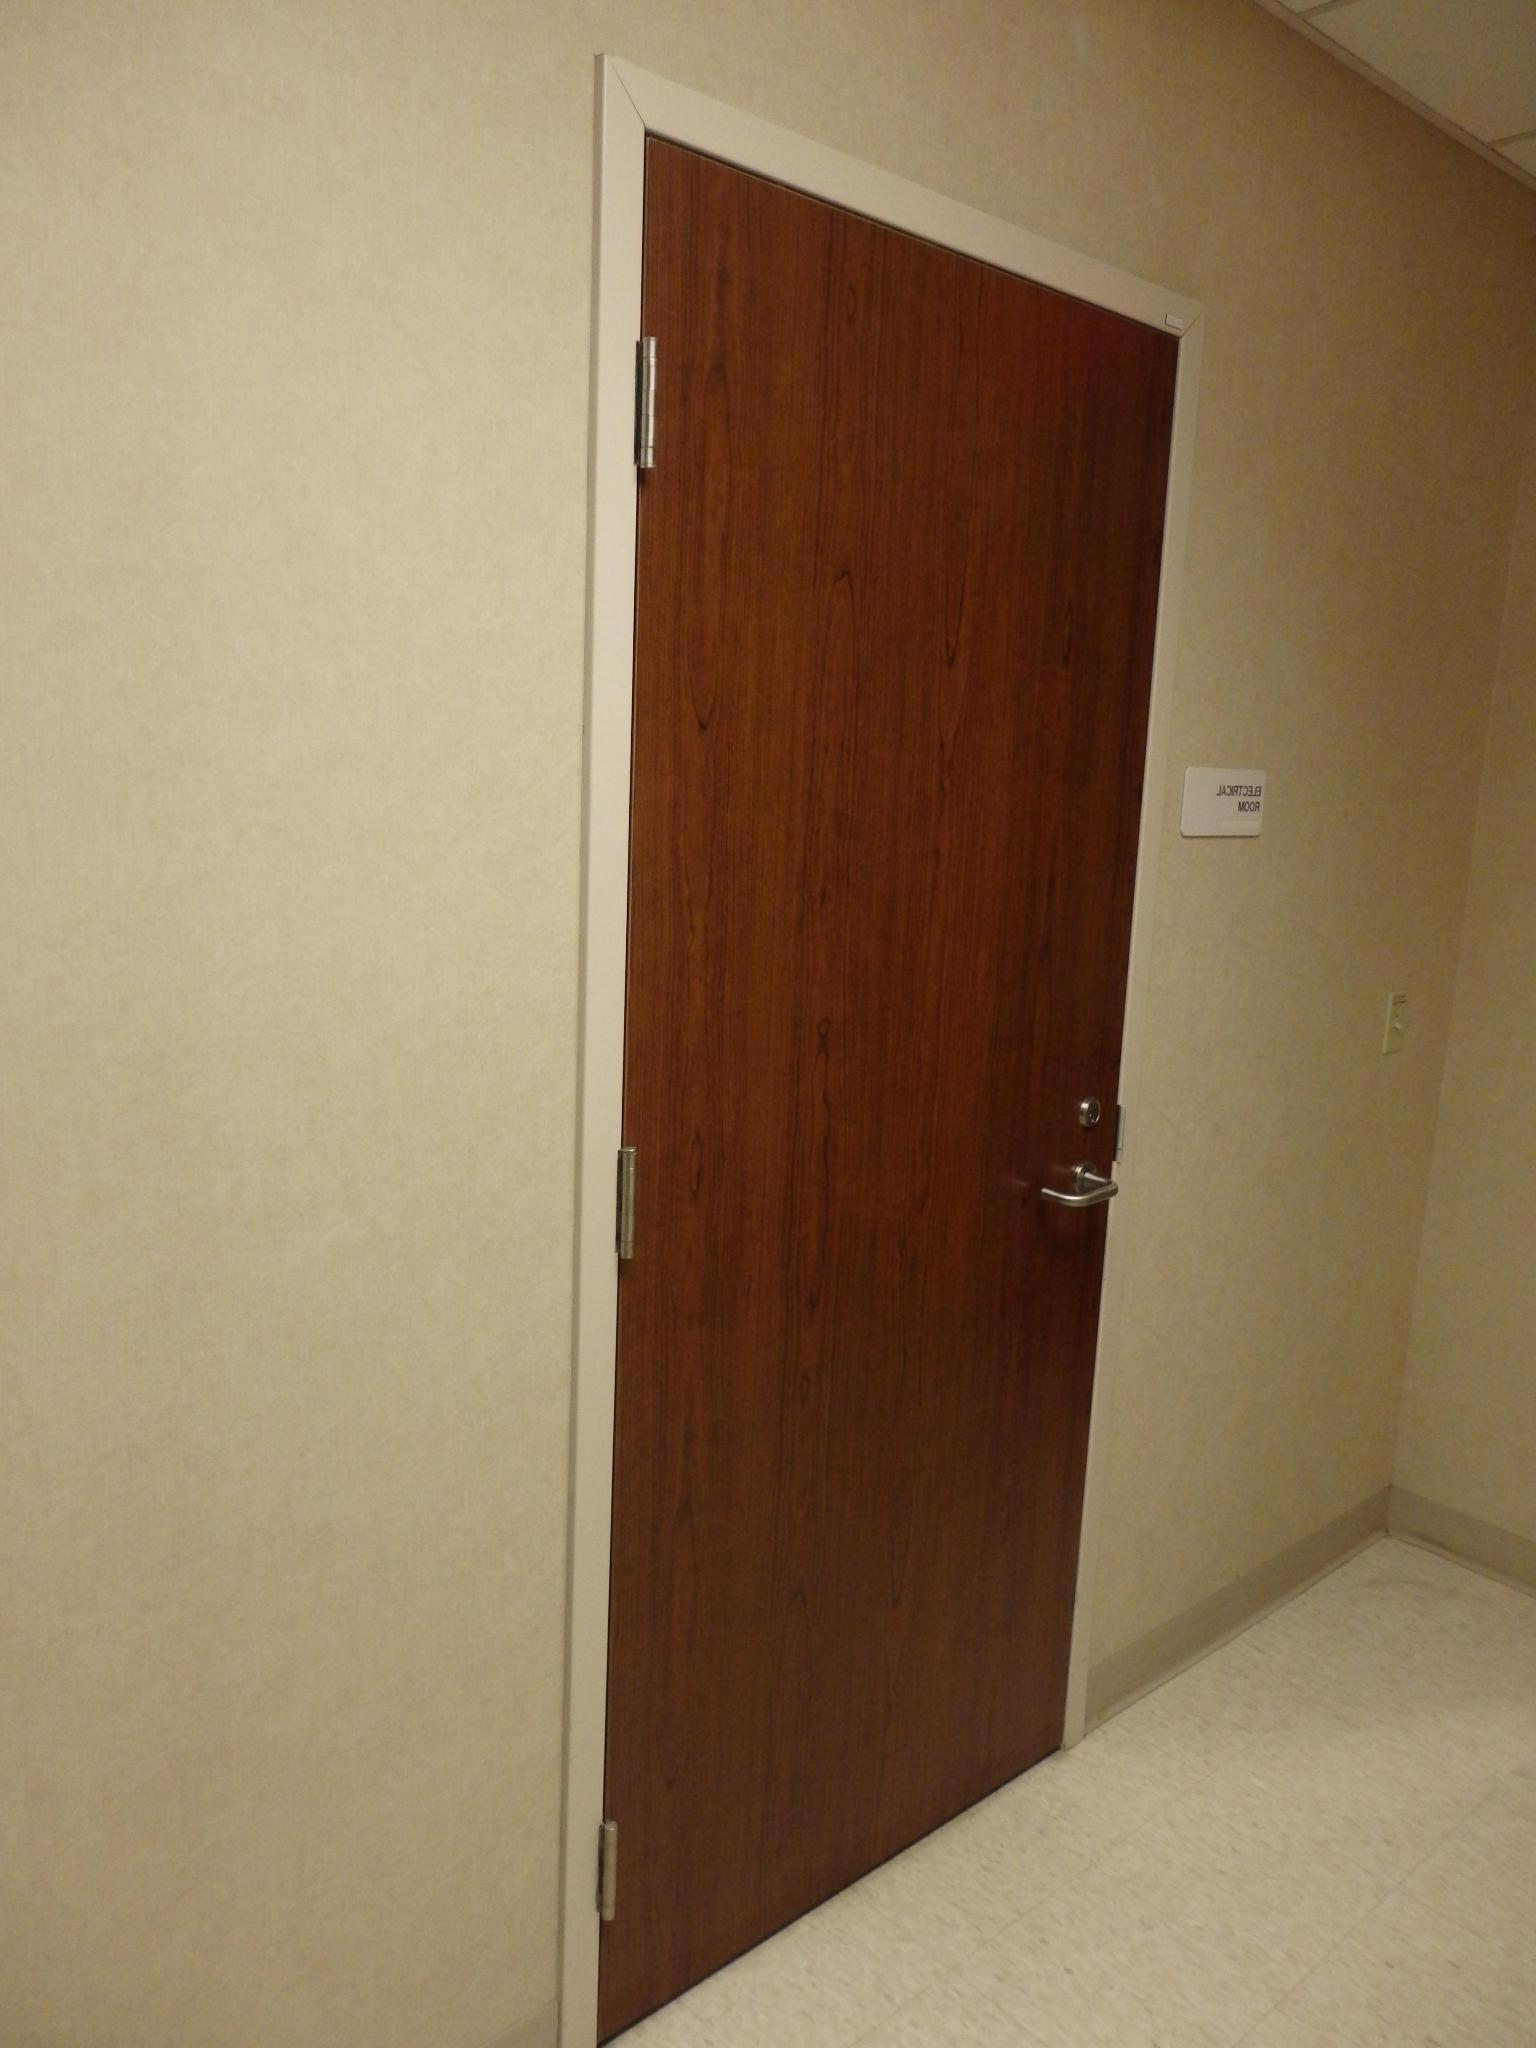door: (678, 331, 1099, 1887)
handle: (1037, 1143, 1123, 1226)
